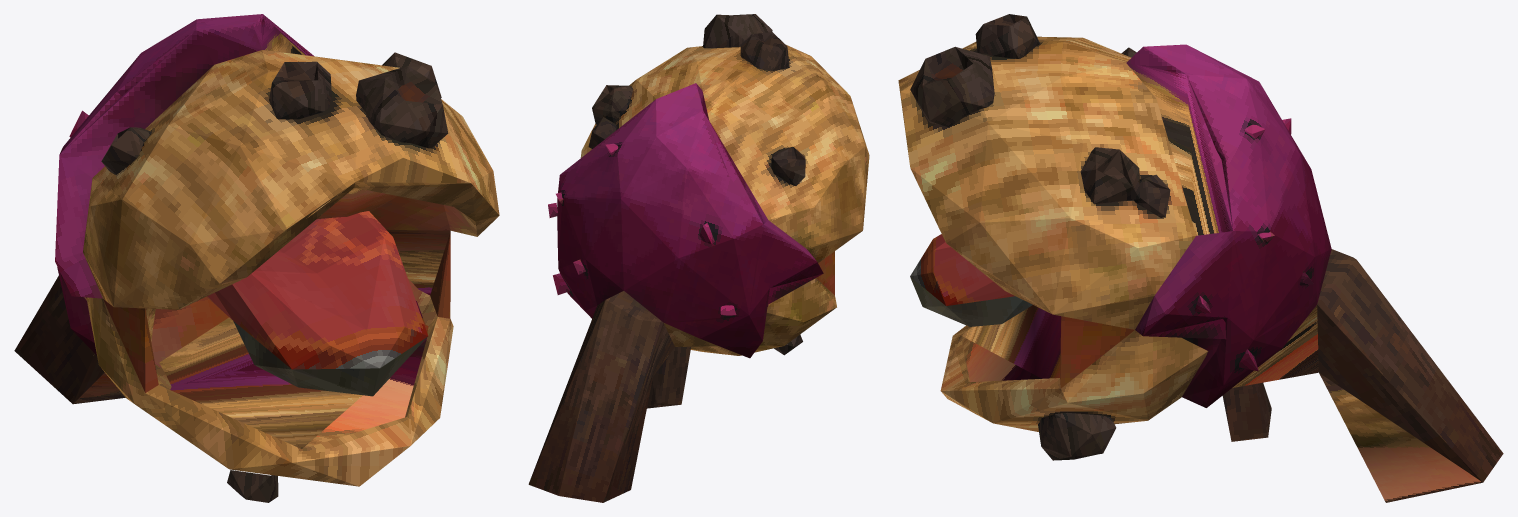
The model's file is item_fish_clam_hookshot.glb.
The picture shows the model from 3 angles, left to right: view 1: azimuth 30°, elevation 25°; view 2: azimuth 150°, elevation 25°; view 3: azimuth 270°, elevation 25°; orthographic projection. The views are drawn at different scales.
Parts seen in each view (by area): view 1: ClampTongueHookShot, ClampTongueHook; view 2: ClampTongueHookShot; view 3: ClampTongueHookShot, ClampTongueHook.
Boxes of the visible parts, box(x1,y1,x2,y2) form: ClampTongueHookShot: box(14, 14, 499, 502); ClampTongueHook: box(206, 211, 428, 396); ClampTongueHookShot: box(528, 14, 869, 502); ClampTongueHookShot: box(898, 14, 1503, 502); ClampTongueHook: box(910, 234, 1032, 326).
Bounding box in the file's own units: 0.2659 × 0.333 × 0.4025.
3 materials, 3 textured.
